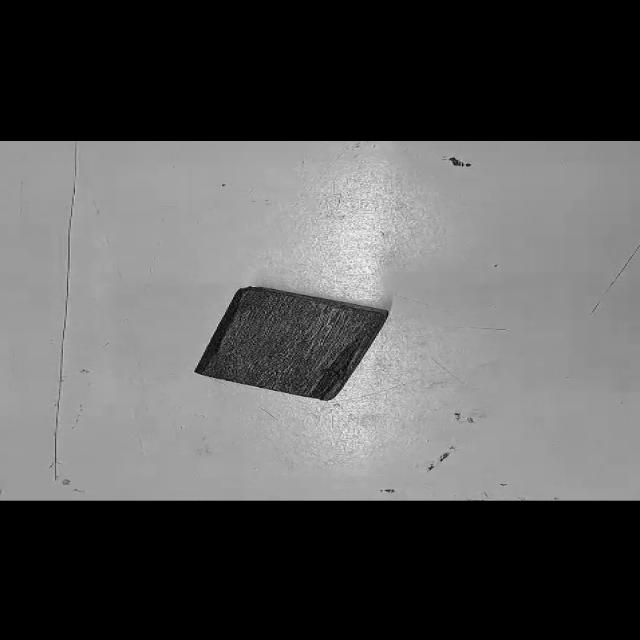bcube: (192, 285, 394, 402)
